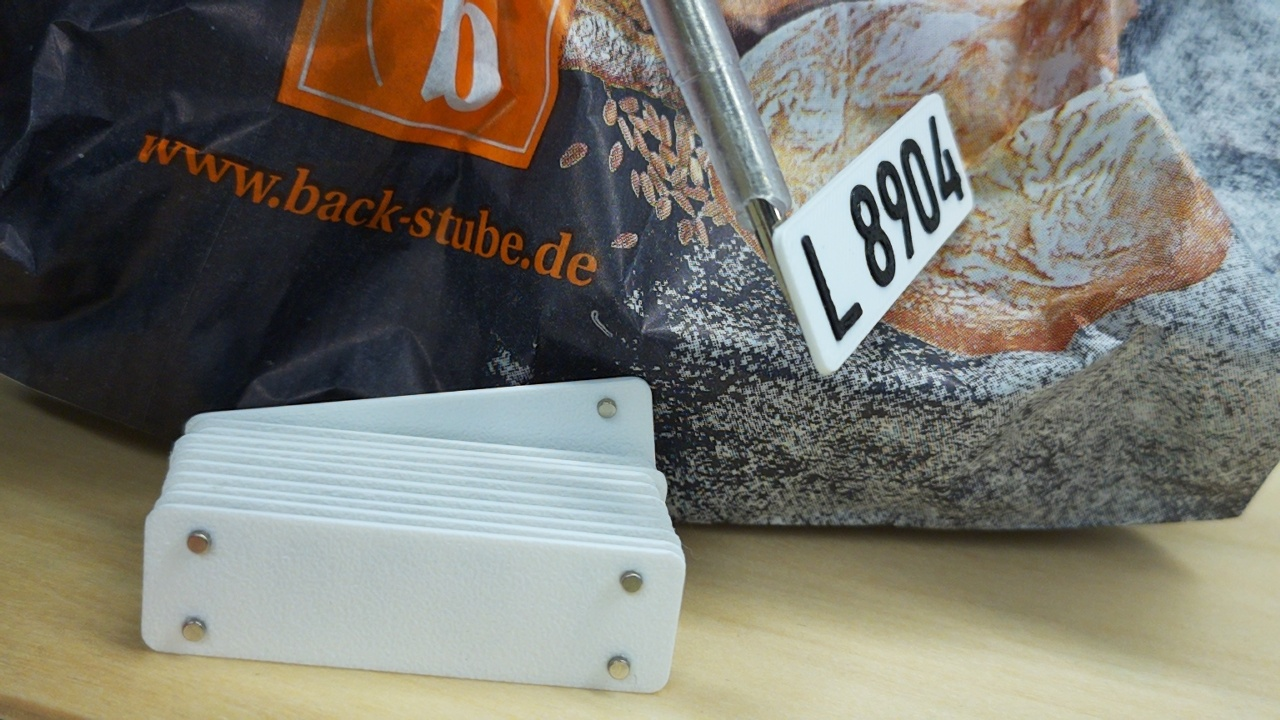license_plate: (768, 88, 977, 382)
